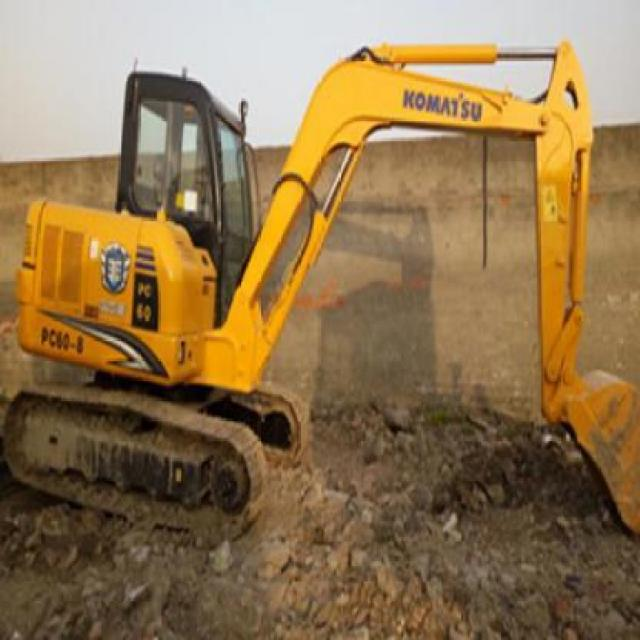Excavator: (2, 27, 636, 561)
